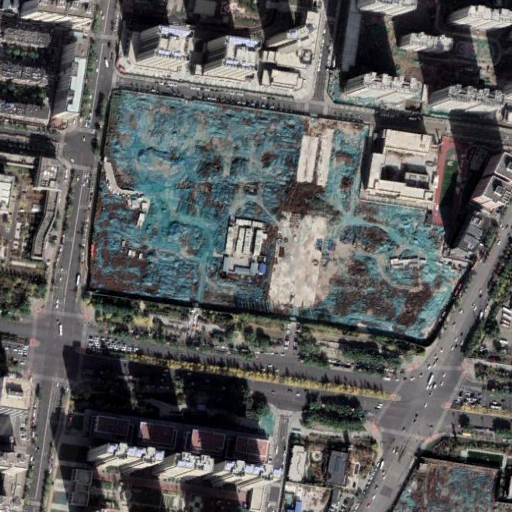cw: (90, 91, 472, 345)
